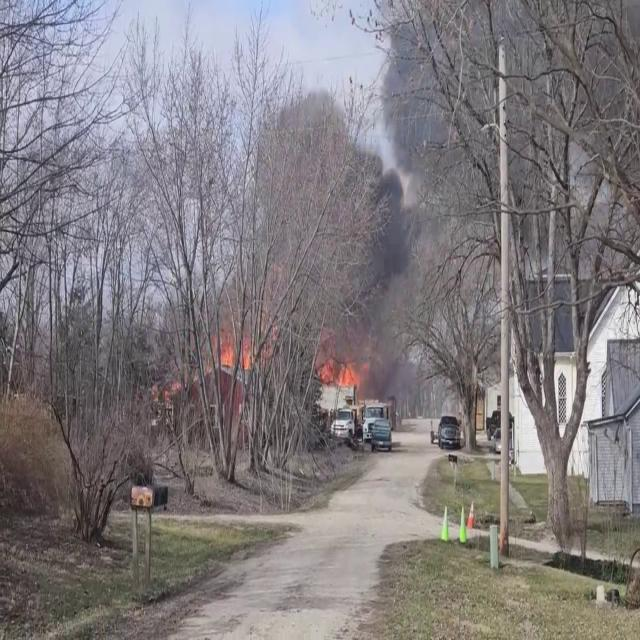Fire: (314, 356, 366, 396), (218, 330, 258, 378)
Smoke: (272, 22, 478, 340)
